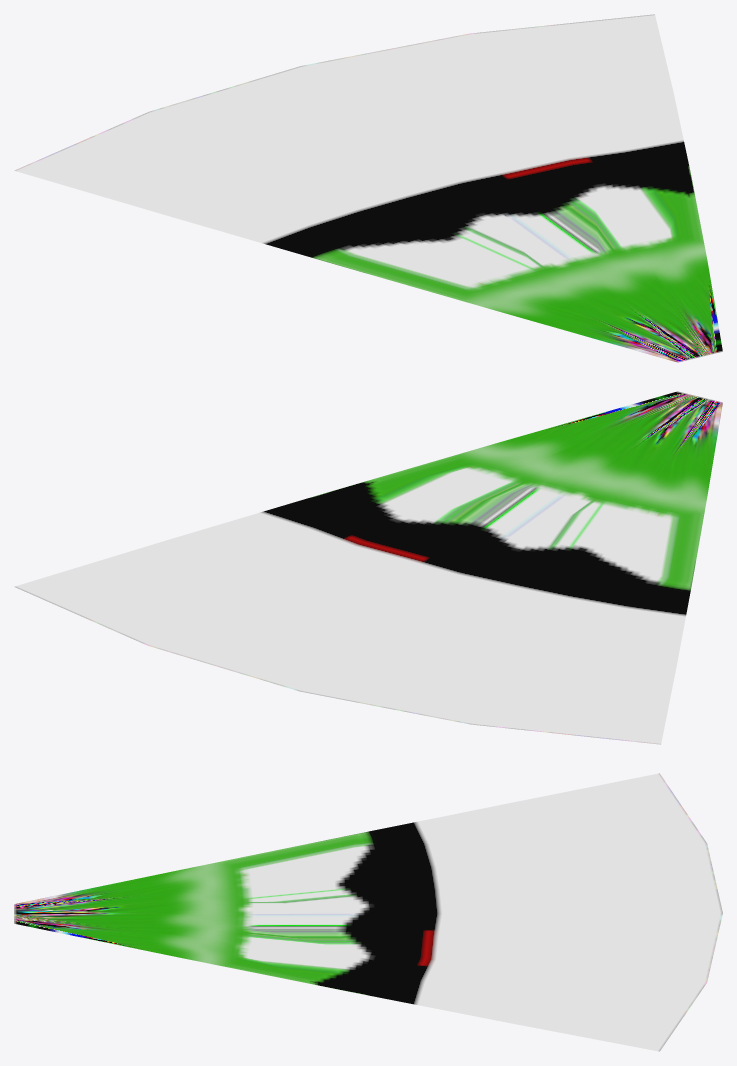
The model's file is ScanModel_WaveOnly.FBX.
3 renders of one model, top to bottom at view 1: azimuth 30°, elevation 25°; view 2: azimuth 150°, elevation 25°; view 3: azimuth 270°, elevation 25°, orthographic. The views are drawn at different scales.
Visible parts, largest first — view 1: ScanWave; view 2: ScanWave; view 3: ScanWave.
Boxes of the visible parts, <box> form: ScanWave: <box>14,14,722,362</box>; ScanWave: <box>14,391,722,744</box>; ScanWave: <box>14,773,722,1051</box>.
Size of the model in its own units: 30.95 by 2e-15 by 33.3.
